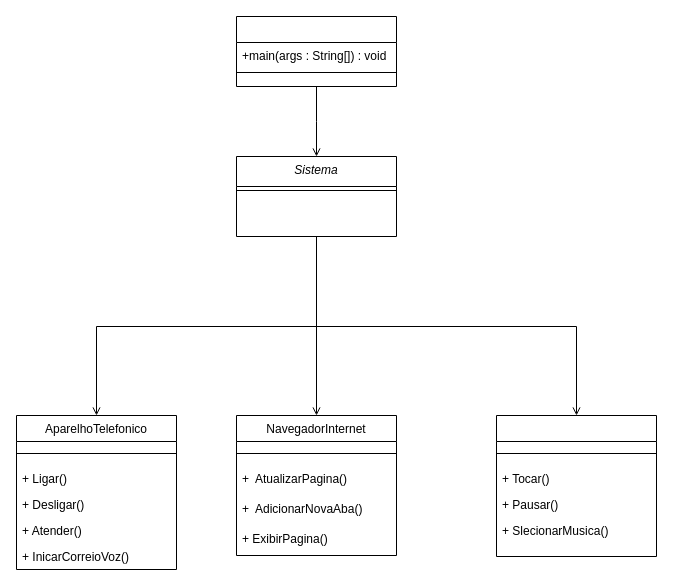
Image size: 673x586. Some labels were removed from this diagram. The box of each missing label's shape, as (x1, y1, x2, y2) in pixels:
IPhone: (236, 16, 396, 86)
ReprodutorMusical: (496, 414, 656, 556)
